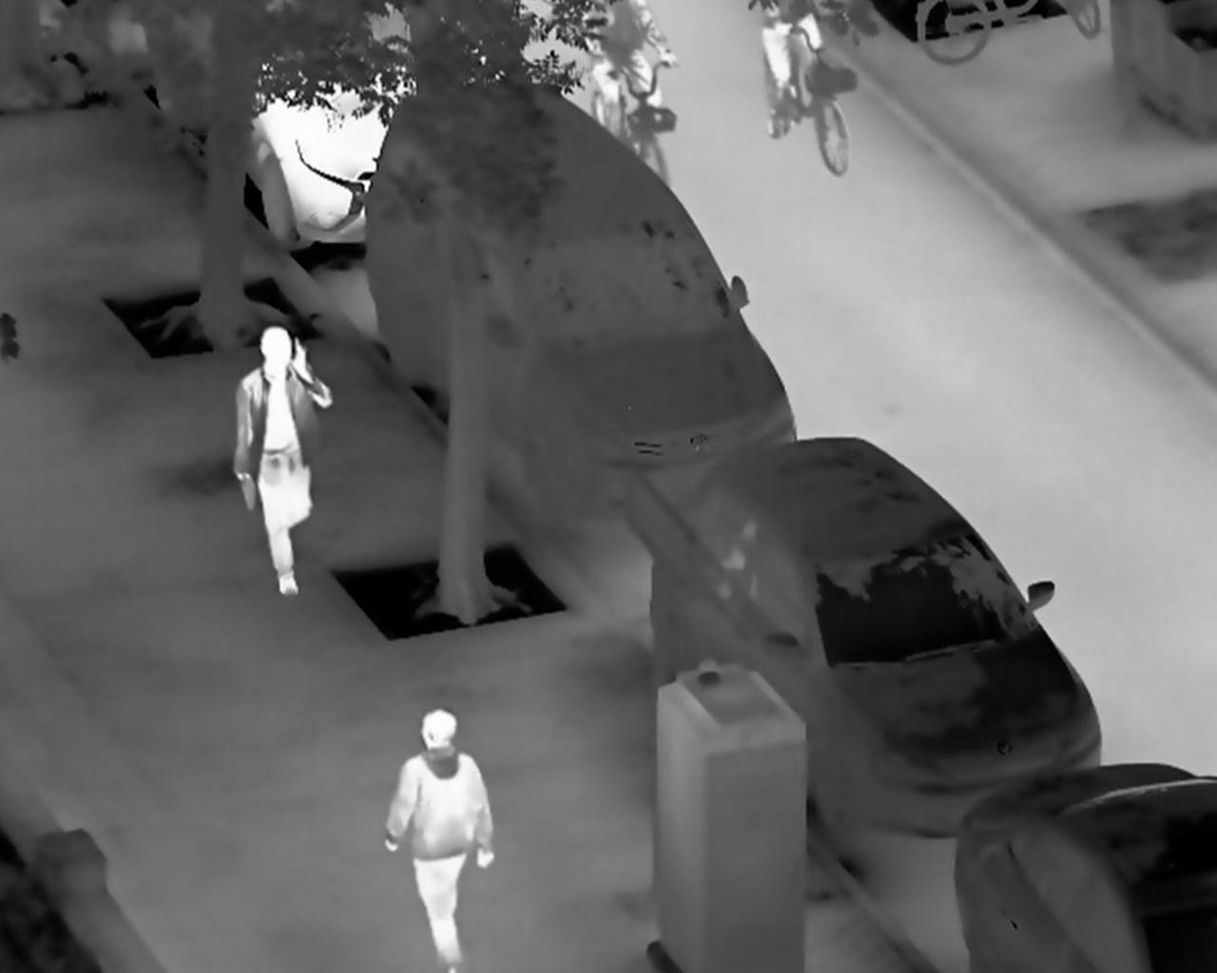person: (382, 705, 499, 973), (232, 325, 335, 598)
